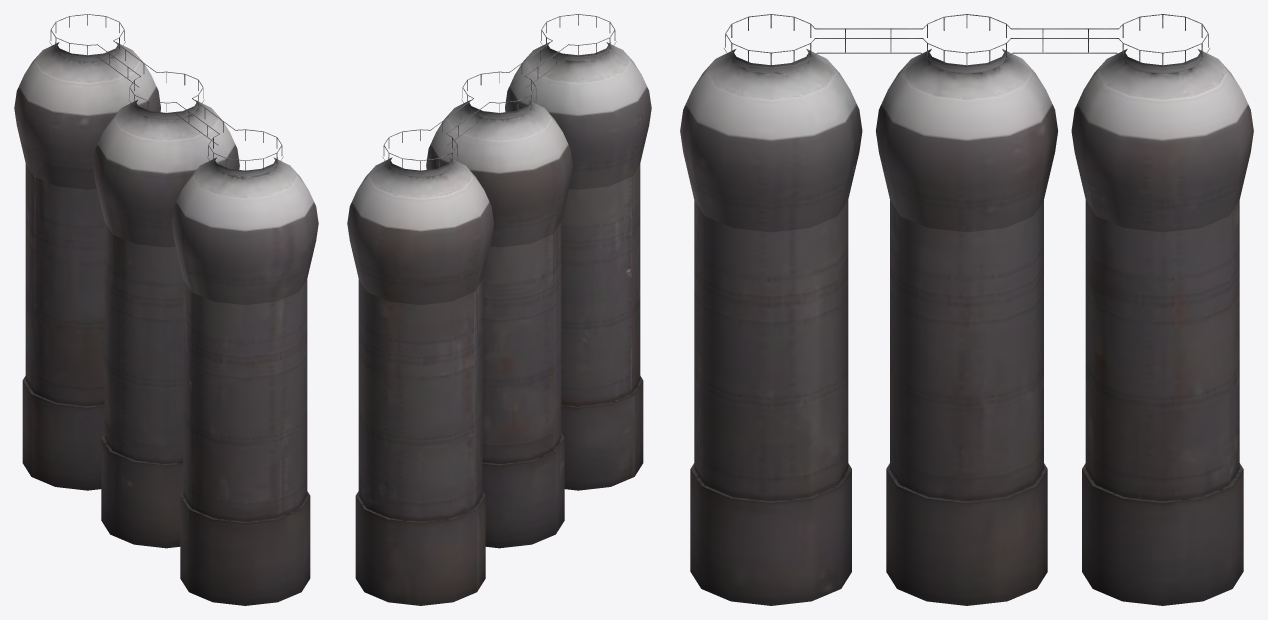
3 views of the same model, side by side, from view 1: azimuth 30°, elevation 25°; view 2: azimuth 150°, elevation 25°; view 3: azimuth 270°, elevation 25° (orthographic). The views are drawn at different scales.
Parts seen in each view (by area): view 1: body0_model0_lod0_mesh0; view 2: body0_model0_lod0_mesh0; view 3: body0_model0_lod0_mesh0.
Part boxes in pixels (<box>): body0_model0_lod0_mesh0: <box>14,14,318,605</box>; body0_model0_lod0_mesh0: <box>347,14,651,605</box>; body0_model0_lod0_mesh0: <box>680,14,1253,605</box>.
Size of the model in its own units: 24 by 78.19 by 75.5.
Materials: 1 (1 with a texture image).
